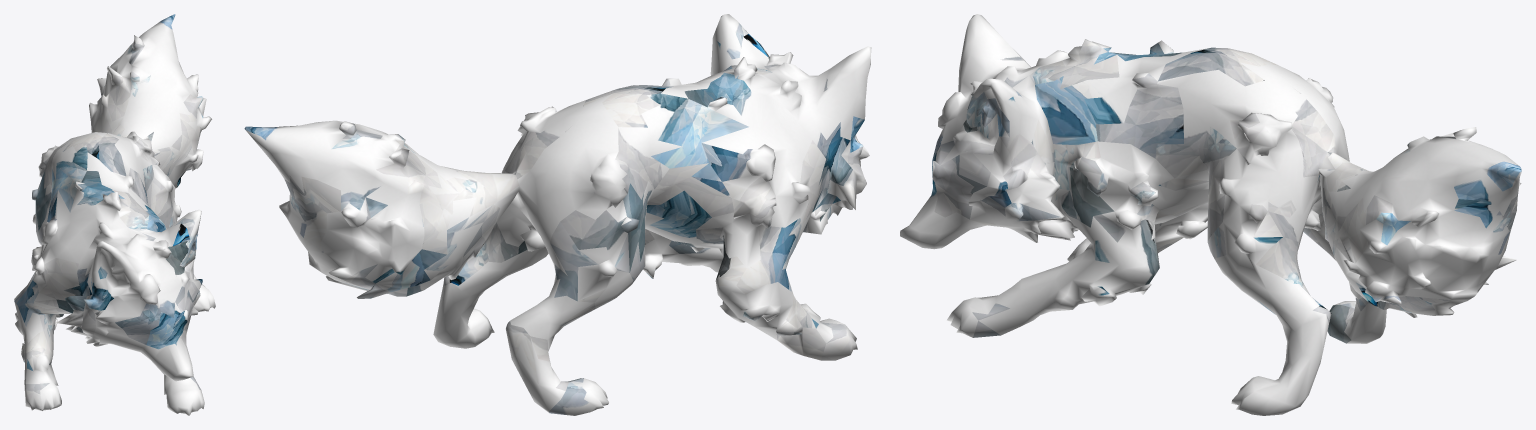
The model's file is frost_fox_basic_5k.fbx.
3 views of the same model, side by side, from view 1: azimuth 30°, elevation 25°; view 2: azimuth 150°, elevation 25°; view 3: azimuth 270°, elevation 25° (orthographic). The views are drawn at different scales.
Visible parts, largest first — view 1: frost_fox_basic_decimated; view 2: frost_fox_basic_decimated; view 3: frost_fox_basic_decimated.
Boxes of the visible parts, x1,y1,x2,y2 form: frost_fox_basic_decimated: (14,14,215,415); frost_fox_basic_decimated: (244,14,871,415); frost_fox_basic_decimated: (900,14,1521,415).
Size of the model in its own units: 1.47 by 0.9996 by 1.91.
